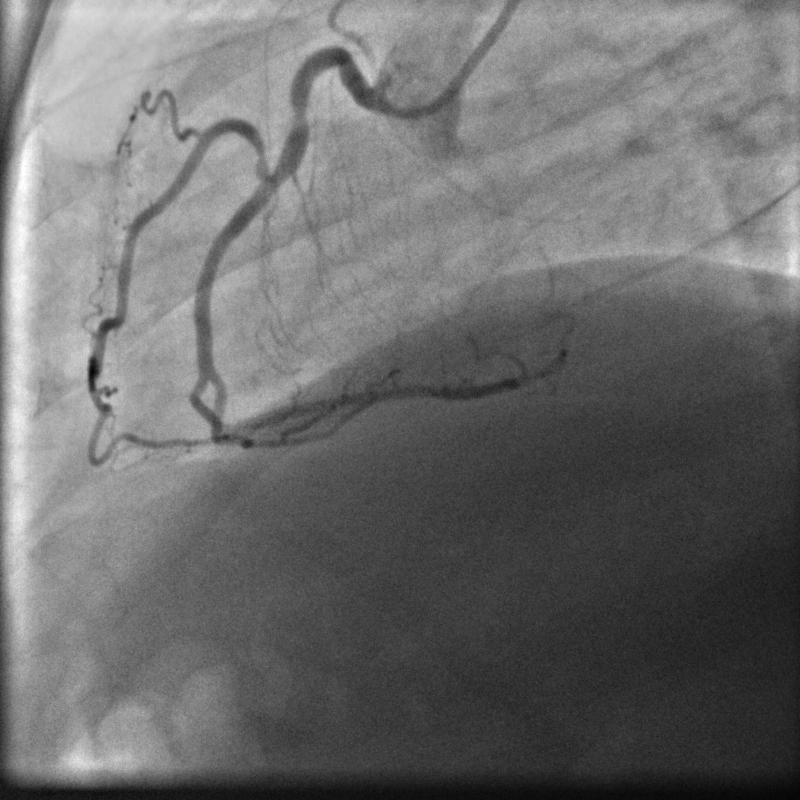Stenosis: (285, 97, 316, 126)
